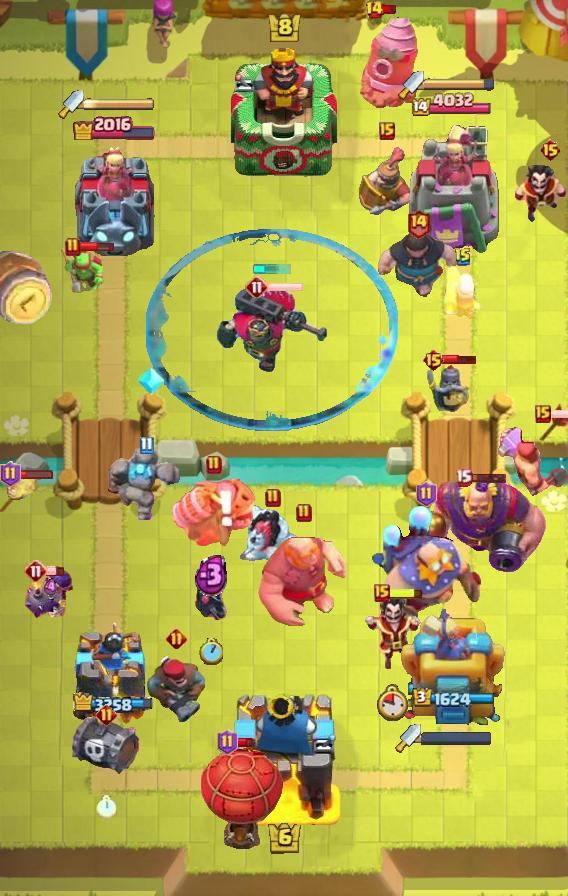balloon: (257, 526, 351, 628)
bar: (401, 601, 505, 731), (406, 122, 500, 256), (70, 142, 158, 256)
battle-ram: (192, 575, 230, 625)
cannon-cart: (201, 747, 285, 849)
dirt: (0, 248, 54, 326)
earthquake: (359, 145, 415, 221)
electro-spirit: (194, 553, 229, 595), (43, 579, 56, 597)
elixir: (377, 683, 409, 721), (199, 639, 223, 666), (96, 795, 117, 819)
emote: (388, 587, 424, 600), (469, 472, 507, 484), (267, 281, 304, 293), (79, 241, 115, 252), (442, 355, 478, 366), (18, 469, 54, 480), (548, 408, 567, 420), (234, 736, 253, 748), (47, 567, 66, 578), (382, 5, 399, 16)
giant-snowball: (58, 245, 106, 295)
goblin-ball: (23, 567, 77, 623)
ice-spirit: (252, 264, 292, 274)
ice-spirit-evolution: (4, 471, 40, 503)
inferno-tower: (216, 286, 328, 374)
king-tower: (226, 688, 342, 826), (231, 43, 337, 181)
king-tower-bar: (424, 77, 496, 91), (84, 97, 156, 111), (421, 731, 493, 745)
lightning: (411, 476, 547, 574)
little-prince: (370, 504, 482, 628)
lumberjack: (362, 596, 424, 672), (512, 165, 568, 225)
magic-archer: (356, 13, 422, 111)
mighty-miner: (494, 419, 568, 501)
night-witch: (169, 479, 259, 553)
pad_0: (146, 228, 398, 432)
pad_2: (136, 366, 166, 396)
phoenix-small: (143, 654, 209, 724)
princess: (425, 359, 471, 415)
queen-tower: (72, 619, 156, 731)
rage: (239, 503, 307, 573)
royal-hog: (375, 229, 461, 305)
royal-recruit-evolution: (69, 714, 143, 778)
selected: (71, 112, 156, 140), (412, 93, 494, 120), (73, 692, 155, 716), (413, 687, 496, 709)
text: (405, 209, 430, 239), (245, 275, 269, 299), (24, 559, 48, 583), (415, 481, 437, 507), (539, 138, 562, 162), (423, 348, 446, 372), (217, 729, 238, 755), (0, 461, 20, 487), (96, 703, 117, 725), (165, 628, 186, 649), (365, 0, 384, 20), (454, 247, 472, 267), (65, 237, 81, 257), (206, 455, 222, 475), (265, 488, 281, 508), (296, 503, 312, 523), (455, 469, 472, 487), (379, 122, 395, 140), (535, 405, 551, 423), (374, 584, 390, 602), (138, 437, 153, 455)
tombstone: (442, 263, 484, 321)
valkyrie-evolution: (108, 448, 184, 526)
